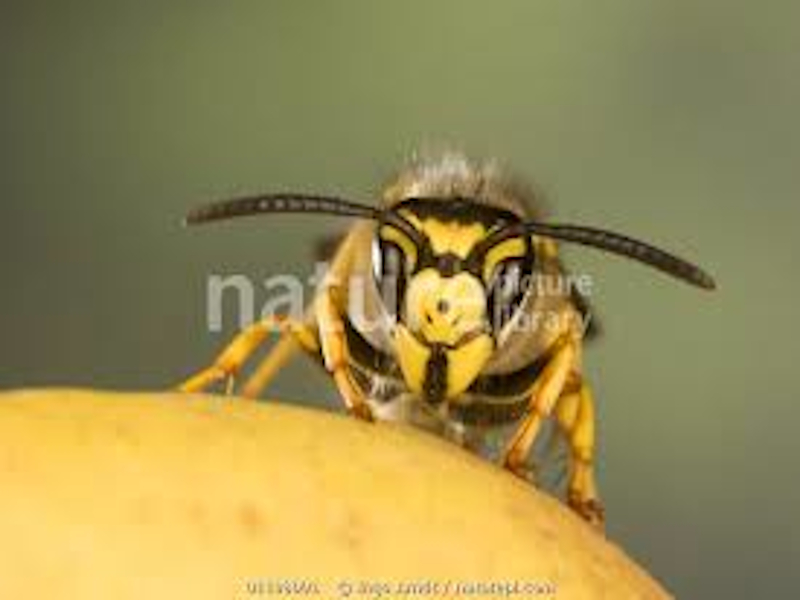chax: (160, 126, 674, 517)
